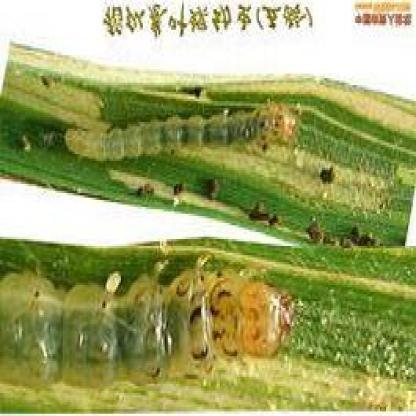leaf-folder: (0, 244, 294, 398), (56, 97, 304, 180)
